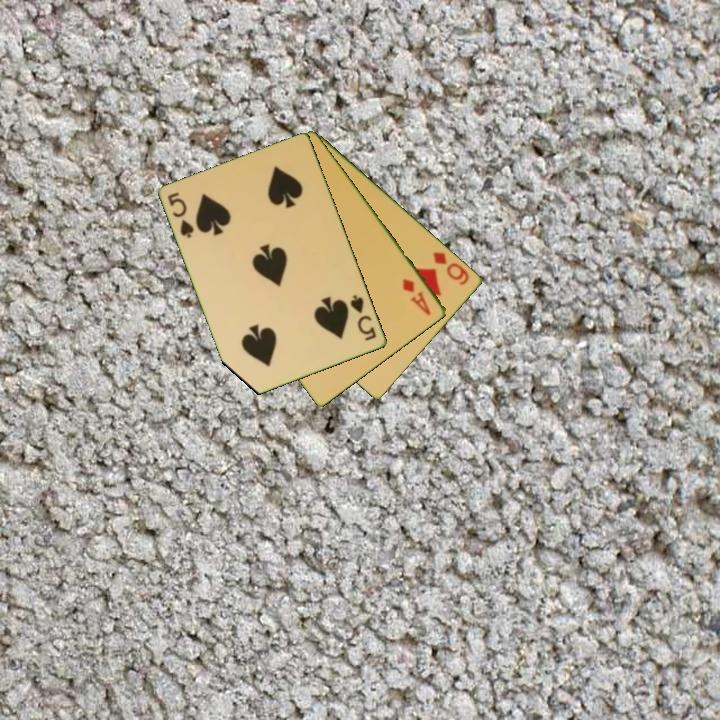5s: (347, 291, 379, 344), (165, 189, 197, 241)
6d: (430, 248, 473, 288)
Ad: (399, 275, 434, 319)
